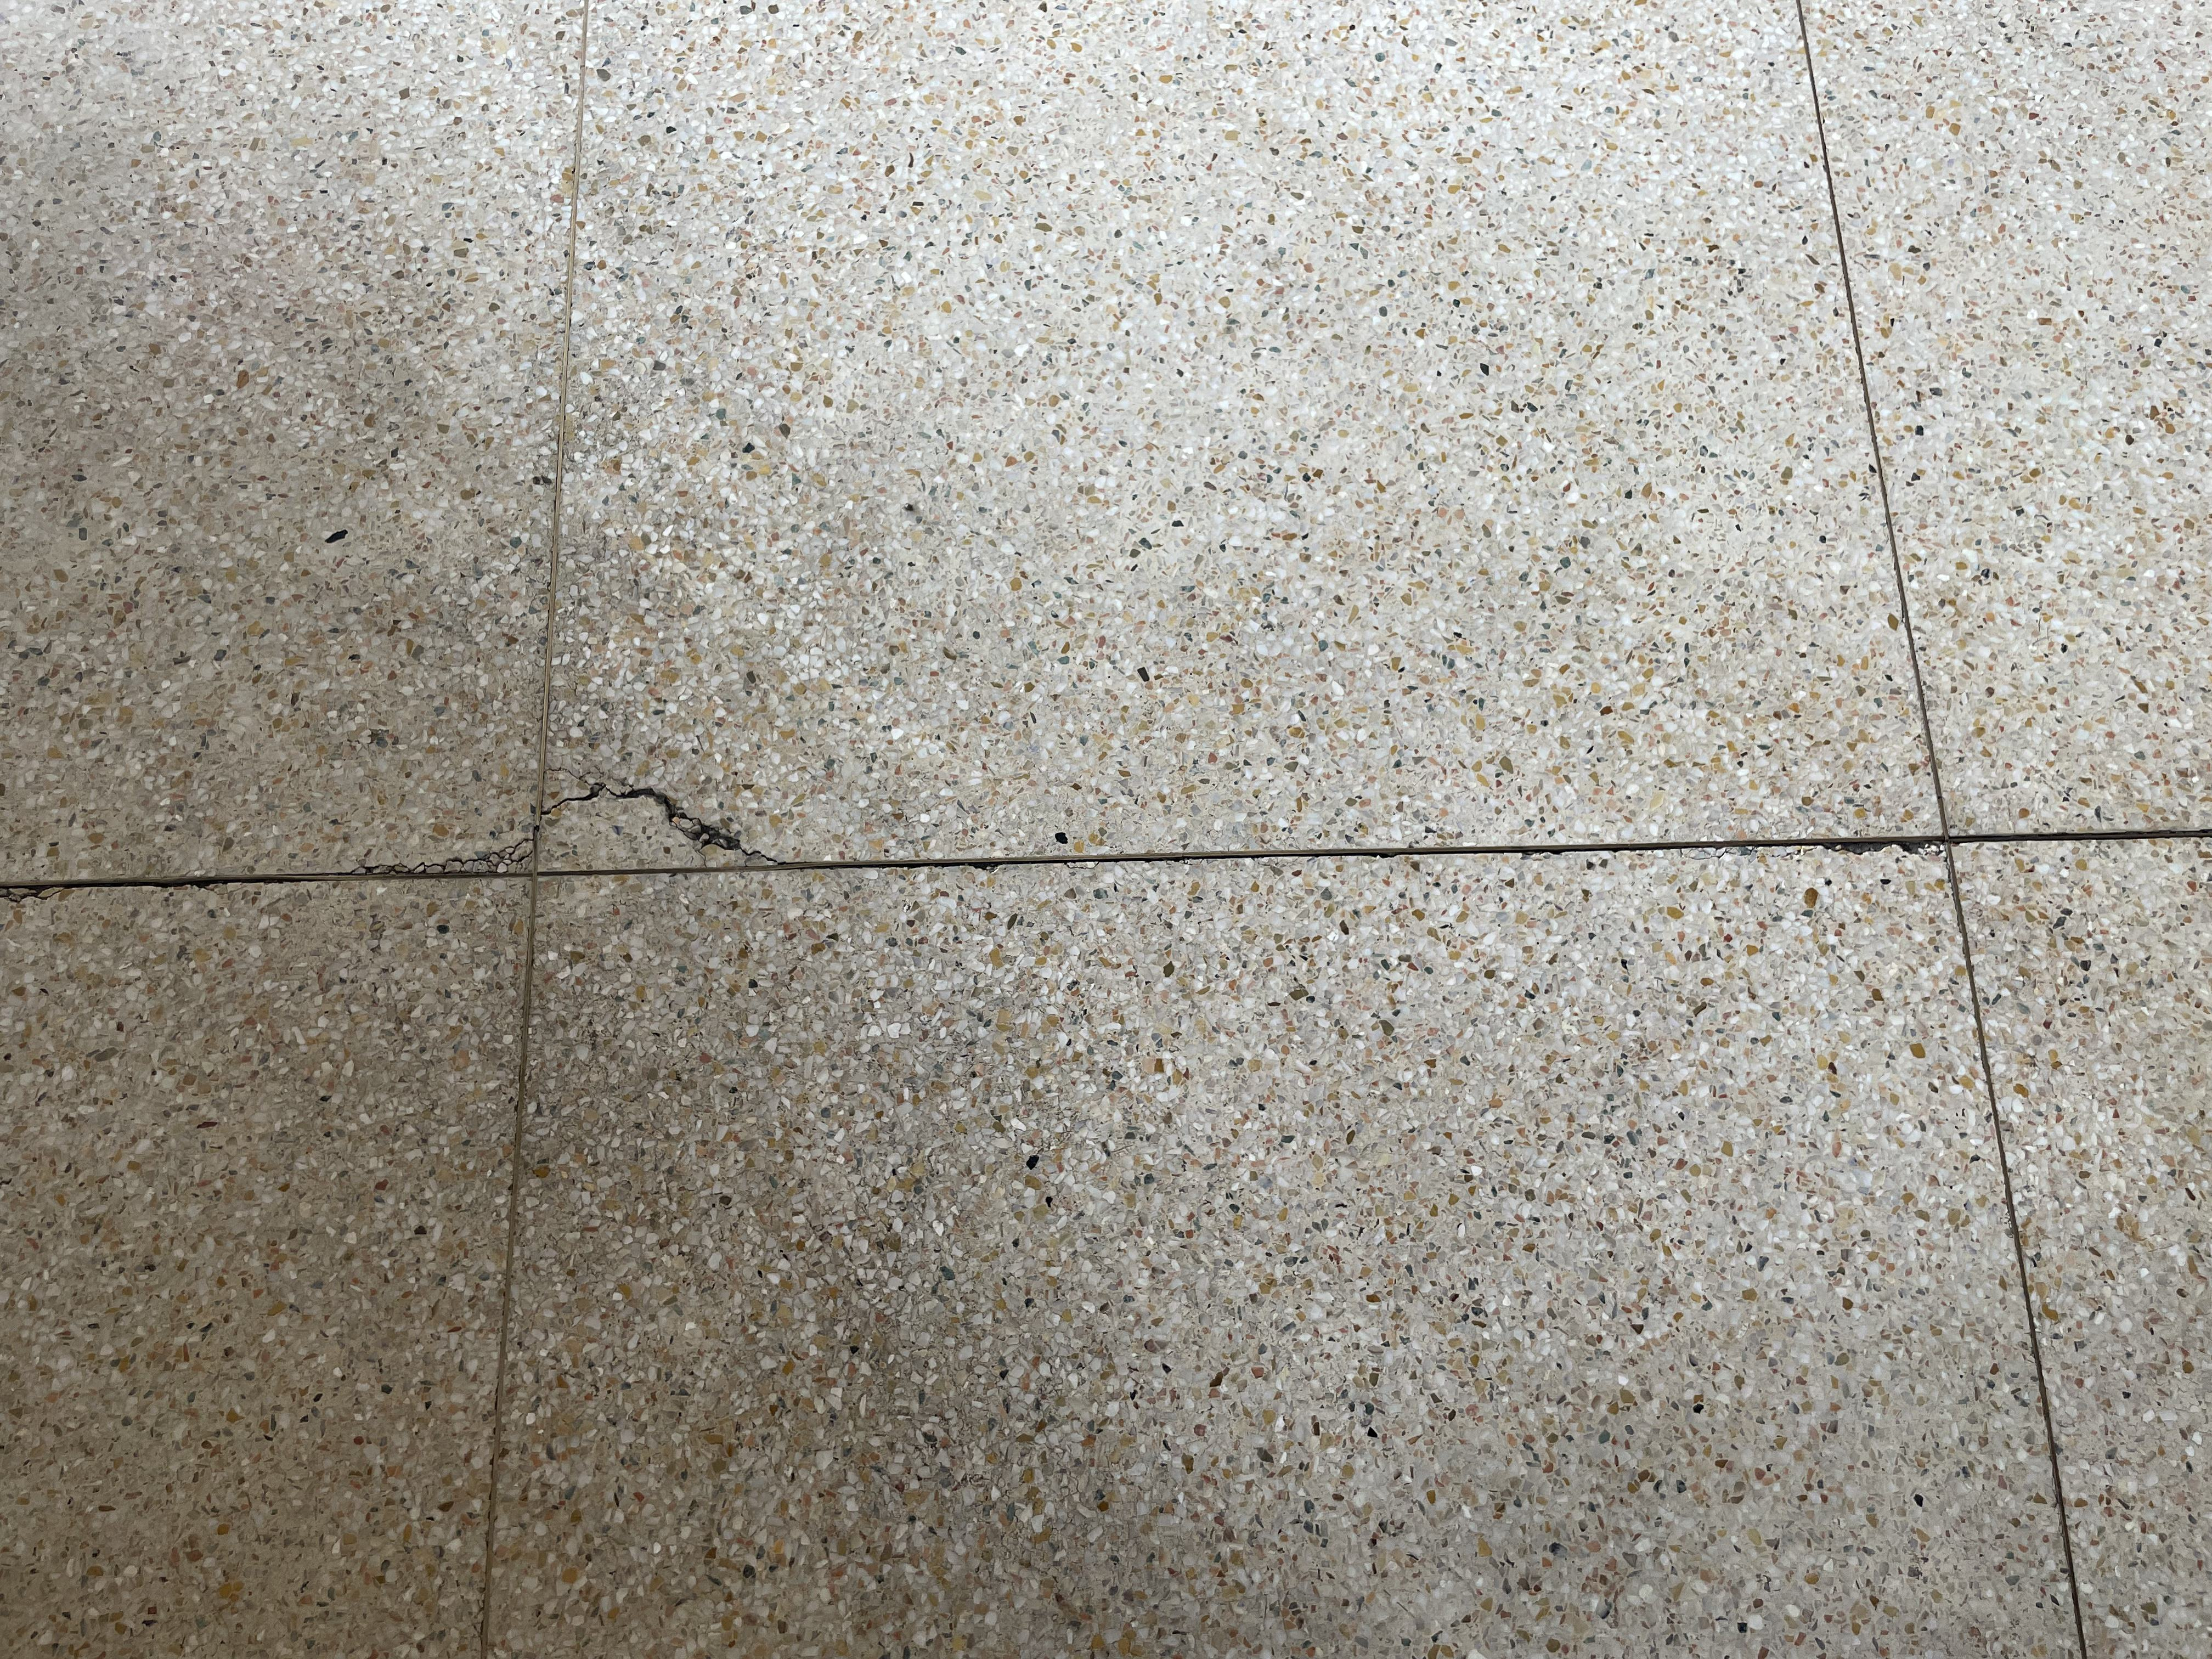Crack: (542, 767, 780, 864)
Spalling: (350, 838, 533, 877), (1679, 838, 1944, 861)
